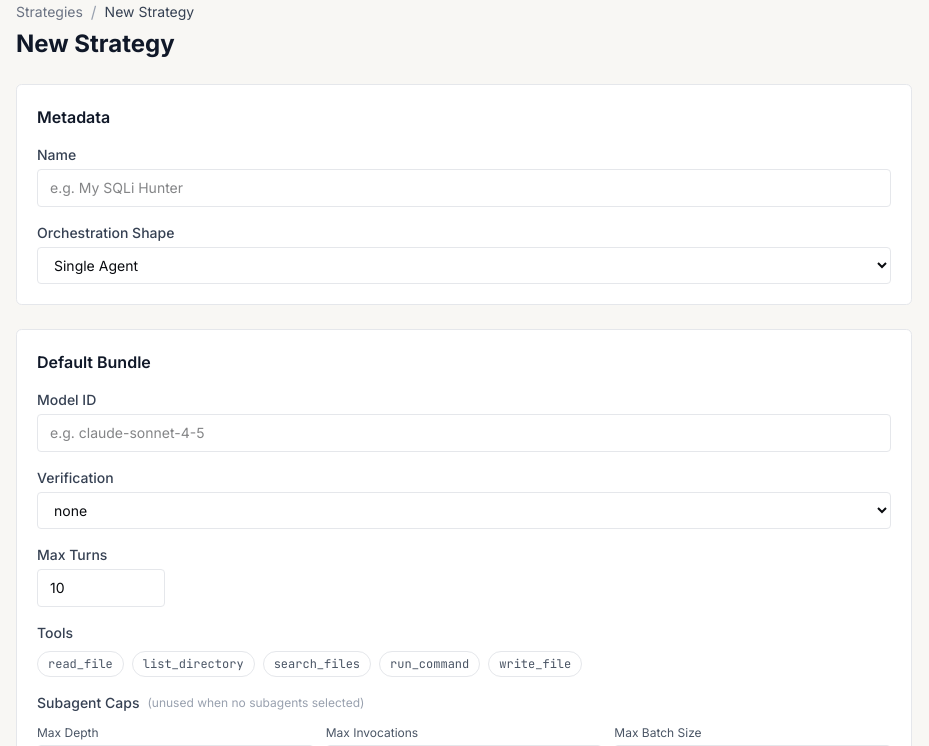
Scenario: StrategyEditor — new strategy › overrides section appears when switching to per_file shape
Select "Per File" in the dropdown with test id "shape-select". click: (464, 266)
box: [37, 247, 891, 284]
(page scrolled)
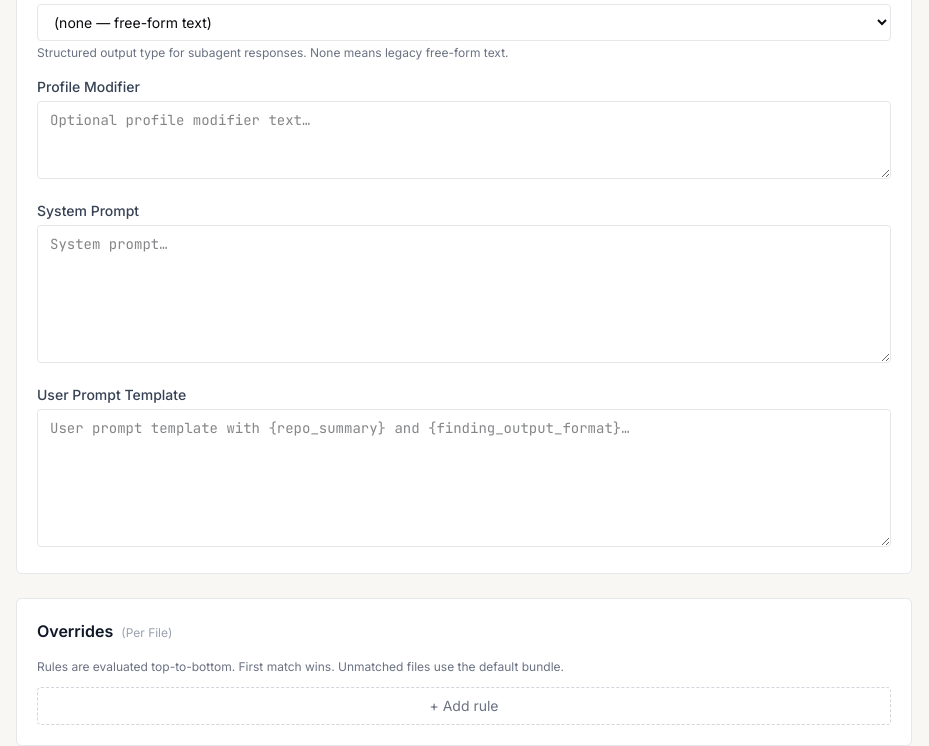
Expected: the button with test id "add-rule-btn" is shown, [37, 687, 891, 725]
